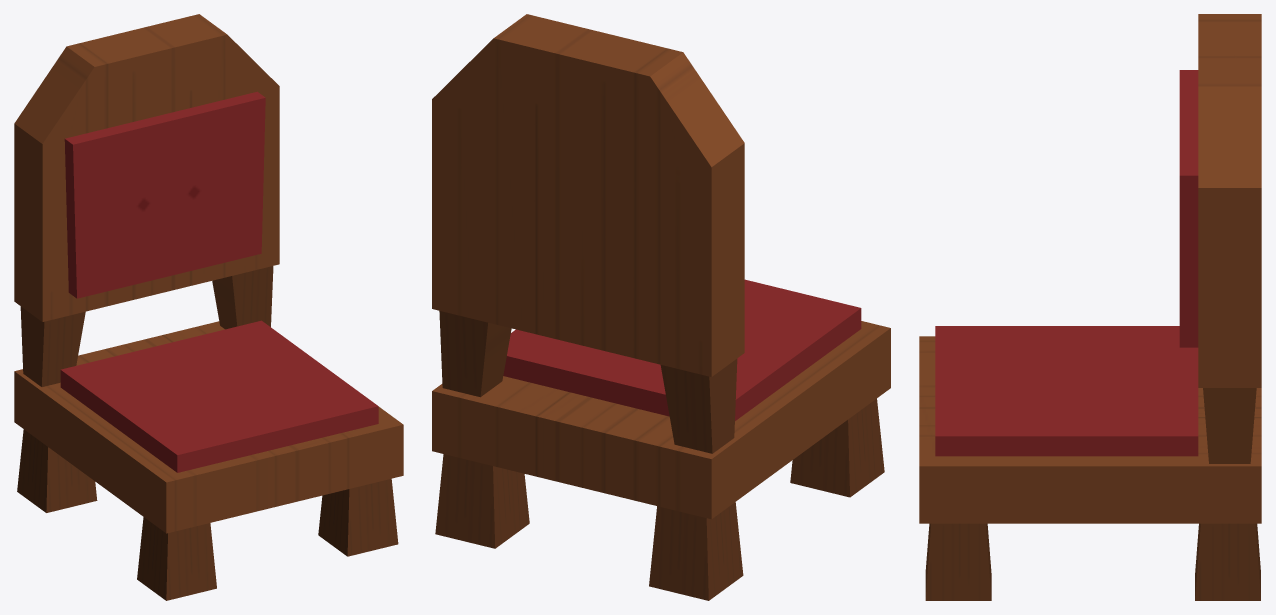
Rendered from Chair 04.fbx.
The picture shows the model from 3 angles, left to right: view 1: azimuth 30°, elevation 25°; view 2: azimuth 150°, elevation 25°; view 3: azimuth 270°, elevation 25°; orthographic projection. The views are drawn at different scales.
Parts seen in each view (by area): view 1: Chair_04; view 2: Chair_04; view 3: Chair_04.
Boxes of the visible parts, box(x1,y1,x2,y2) form: Chair_04: box(14, 14, 403, 600); Chair_04: box(432, 14, 890, 600); Chair_04: box(919, 14, 1261, 600).
Size of the model in its own units: 74.16 by 129 by 82.38.
